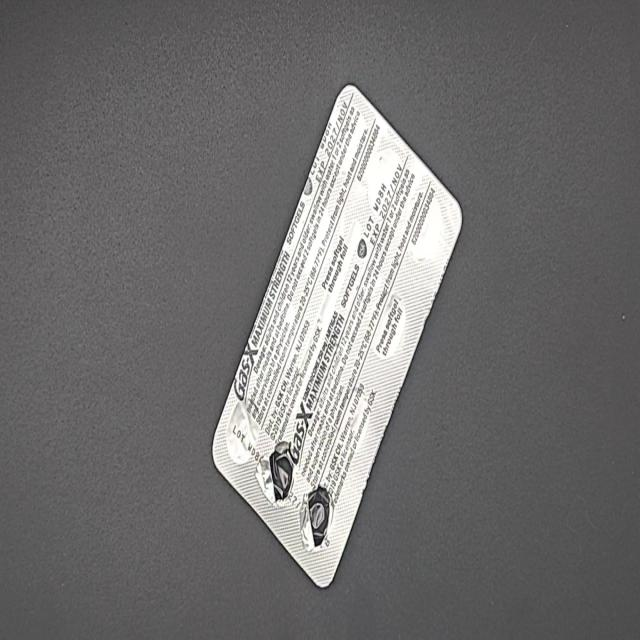defect: (254, 437, 296, 511), (298, 483, 336, 557)
